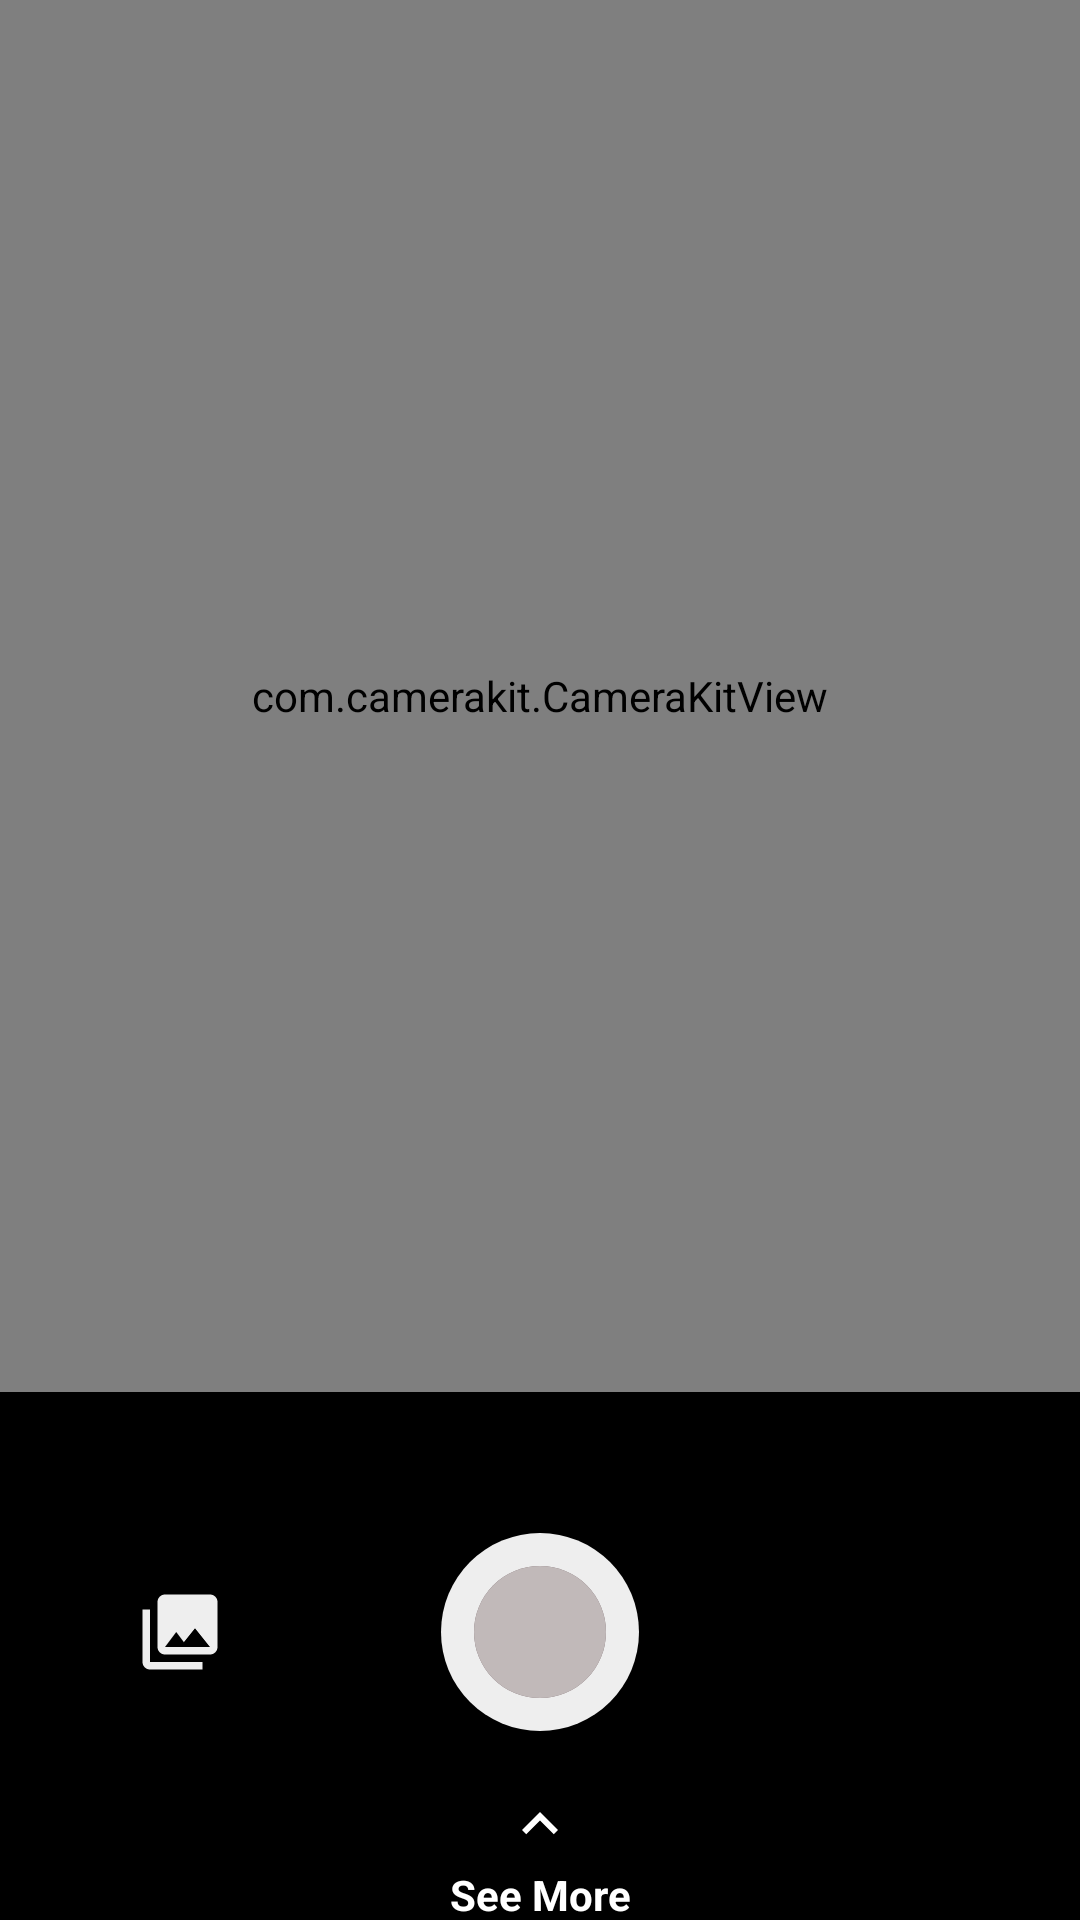

Icons on this 1080w x 1920h Android screen, each with its box as (x1,y1,x2,y2):
arrow up: (522,1812,558,1834)
capture: (441,1533,639,1731)
photo library: (142,1594,218,1670)
